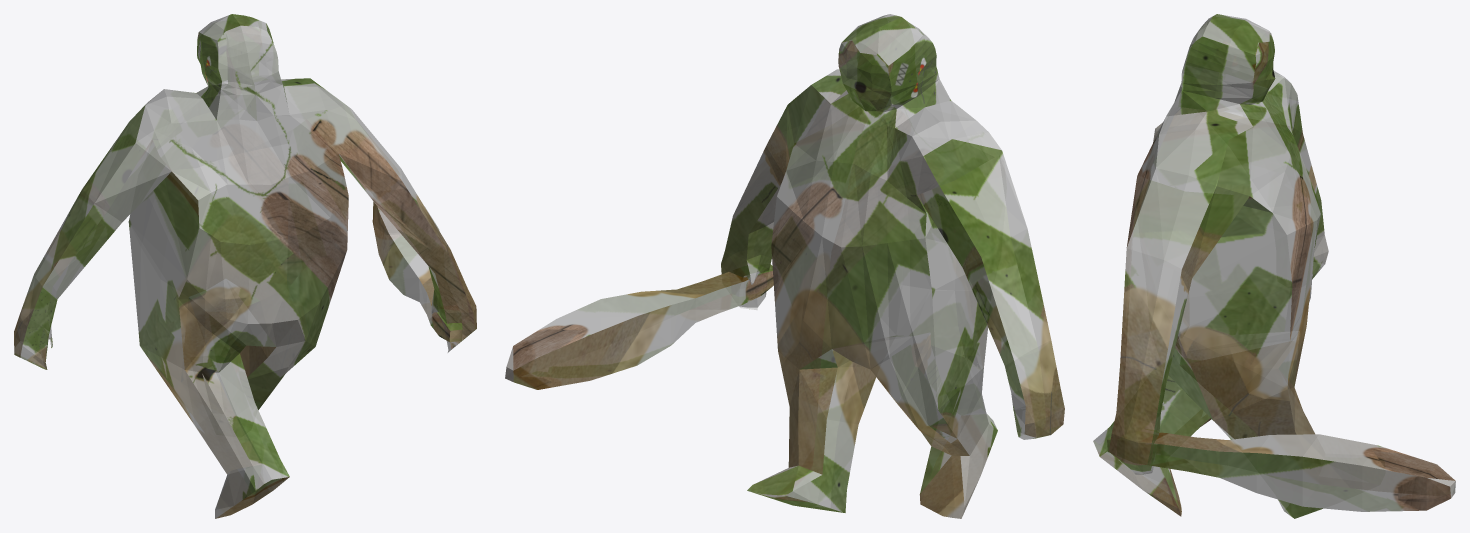
Rendered from Enemigo210.obj.
3 views of the same model, side by side, from view 1: azimuth 30°, elevation 25°; view 2: azimuth 150°, elevation 25°; view 3: azimuth 270°, elevation 25° (orthographic). The views are drawn at different scales.
Parts seen in each view (by area): view 1: Cube; view 2: Cube; view 3: Cube.
Boxes of the visible parts, x1,y1,x2,y2 form: Cube: [14, 14, 476, 518]; Cube: [505, 14, 1064, 518]; Cube: [1093, 14, 1455, 518].
Bounding box in the file's own units: 2.81 × 2.82 × 1.82.
